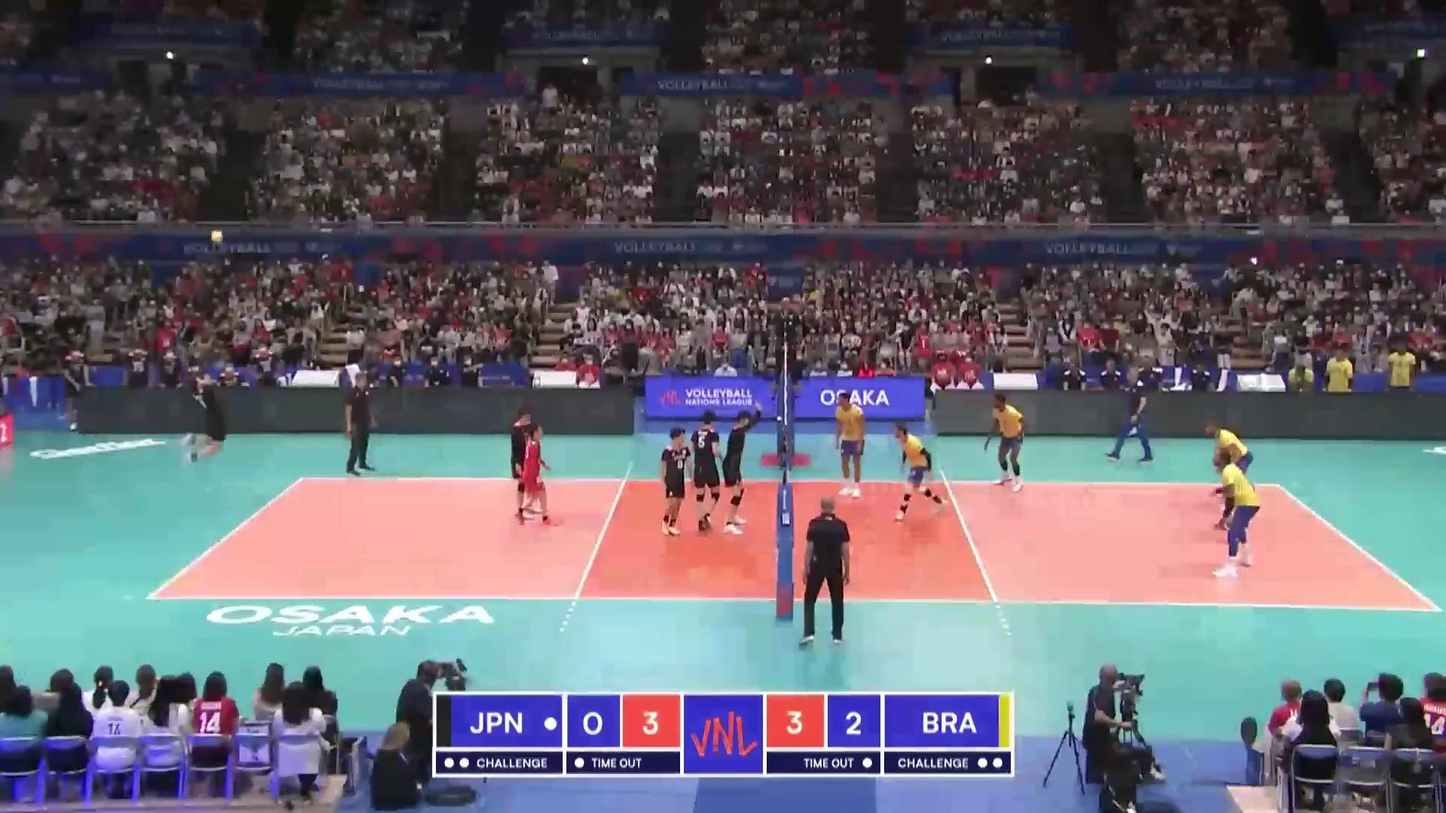player: (1213, 450, 1259, 575), (893, 421, 950, 520), (1207, 421, 1259, 528), (722, 402, 758, 535), (691, 409, 726, 536), (987, 395, 1029, 492), (656, 428, 693, 535), (185, 376, 228, 466), (518, 424, 555, 527), (833, 392, 868, 494), (510, 407, 541, 518)
refree: (797, 499, 852, 645), (772, 297, 805, 398)
